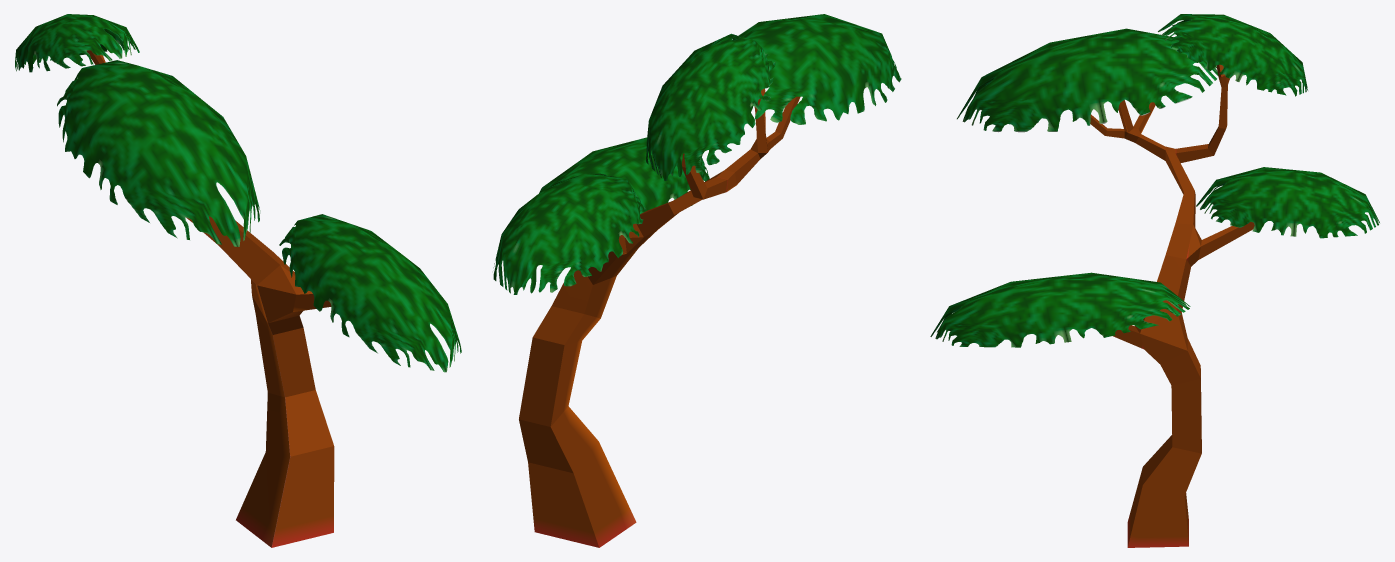
Rendered from SM_Tree_E01.fbx.
3 renders of one model, left to right at view 1: azimuth 30°, elevation 25°; view 2: azimuth 150°, elevation 25°; view 3: azimuth 270°, elevation 25°, orthographic. The views are drawn at different scales.
Visible parts, largest first — view 1: SM_Tree_E01; view 2: SM_Tree_E01; view 3: SM_Tree_E01.
Part boxes in pixels (bbox=[...]): SM_Tree_E01: bbox=[15, 14, 461, 547]; SM_Tree_E01: bbox=[493, 14, 901, 547]; SM_Tree_E01: bbox=[930, 14, 1379, 547].
Size of the model in its own units: 248 by 402 by 365.
